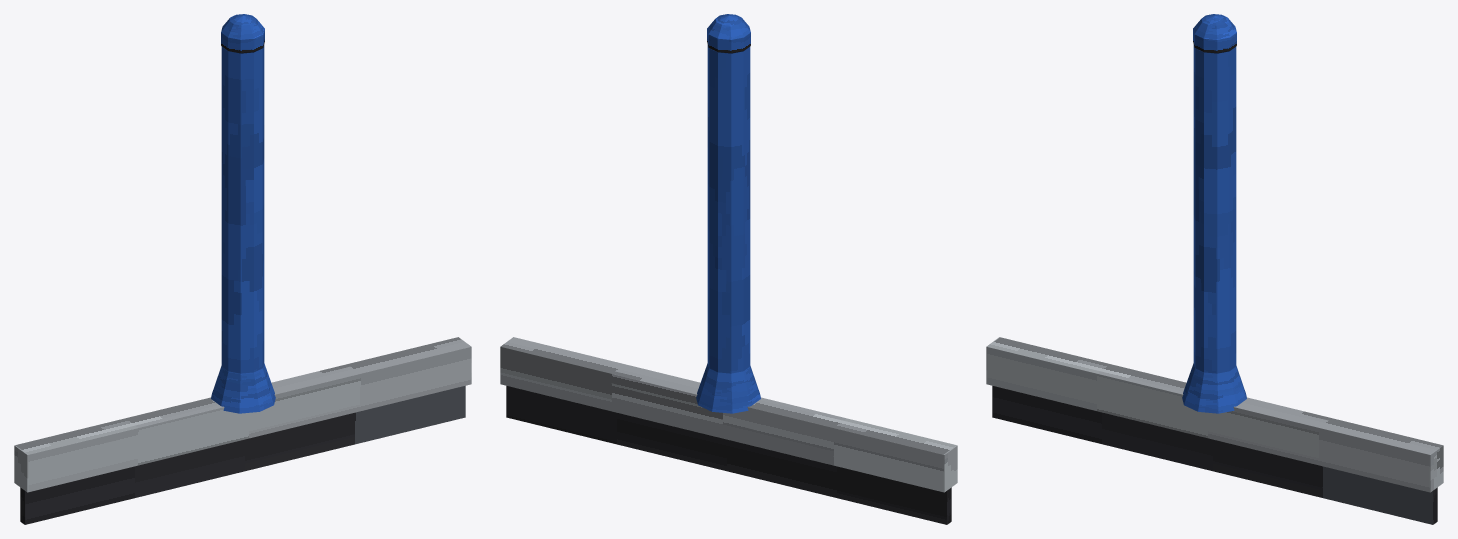
The model's file is squeegee.glb.
The picture shows the model from 3 angles, left to right: view 1: azimuth 30°, elevation 25°; view 2: azimuth 150°, elevation 25°; view 3: azimuth 330°, elevation 25°; orthographic projection.
Visible parts, largest first — view 1: Cube; view 2: Cube; view 3: Cube.
Boxes of the visible parts, x1=… form: Cube: x1=14, y1=14, x2=471, y2=524; Cube: x1=500, y1=14, x2=957, y2=524; Cube: x1=986, y1=14, x2=1443, y2=524.
Size of the model in its own units: 0.272 by 0.2655 by 0.036.
3 materials, 3 textured.
